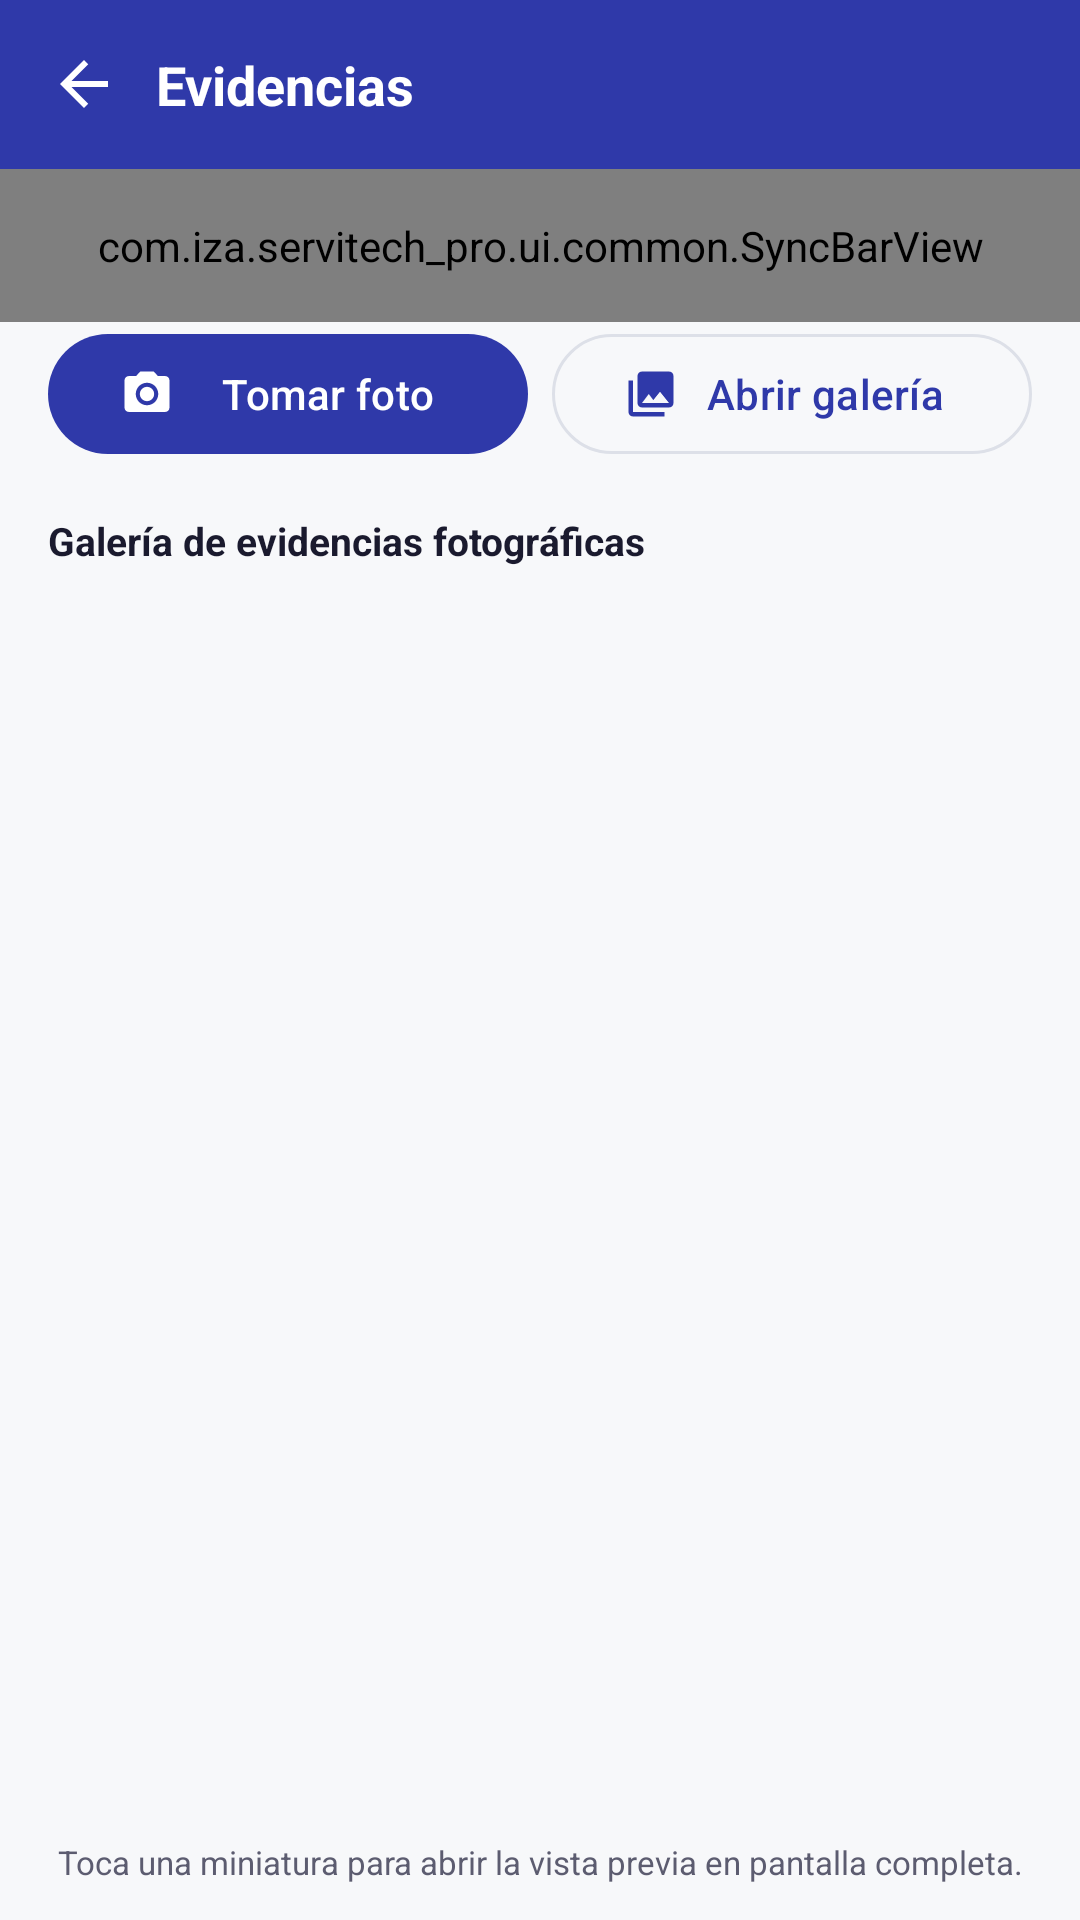

Screen size 1080px x 1920px. Icon name, then its box in pixels as (x1=x1, y1=y1, x2=x2, y2=y2):
Volver: (x1=60, y1=60, x2=108, y2=108)
